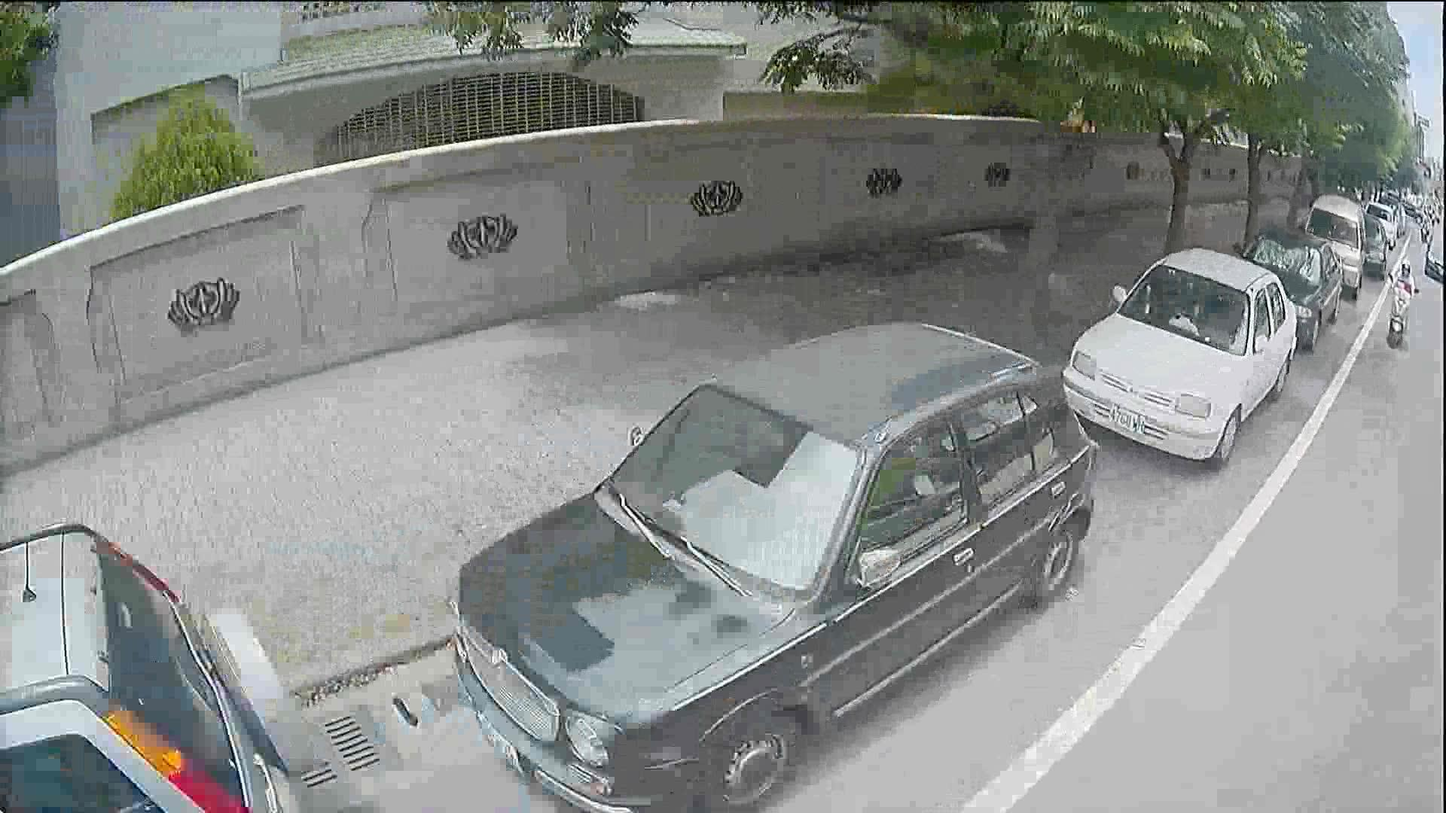person: (1393, 262, 1413, 291)
